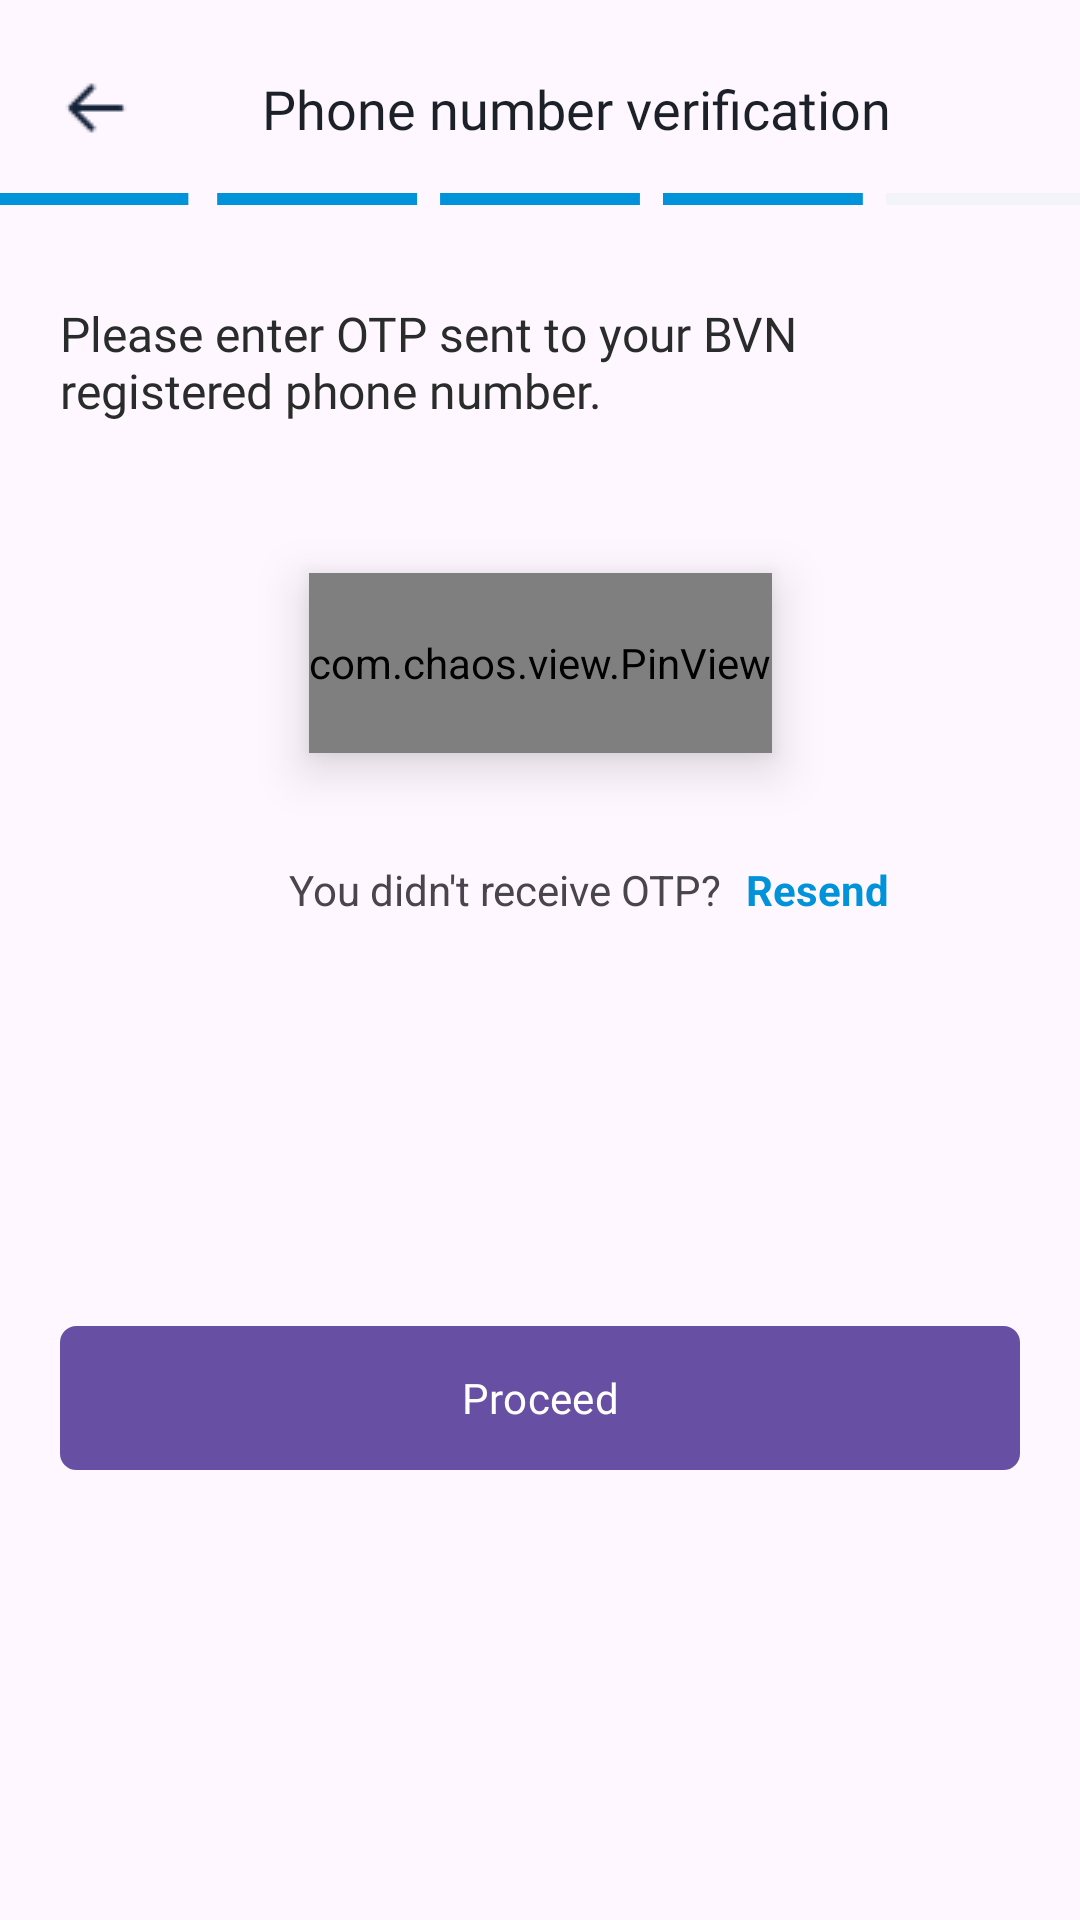

Icons on this 1080 x 1920 Android screen, each with its box as (x1, y1, x2, y2):
arrowleft: (67, 83, 125, 133)
